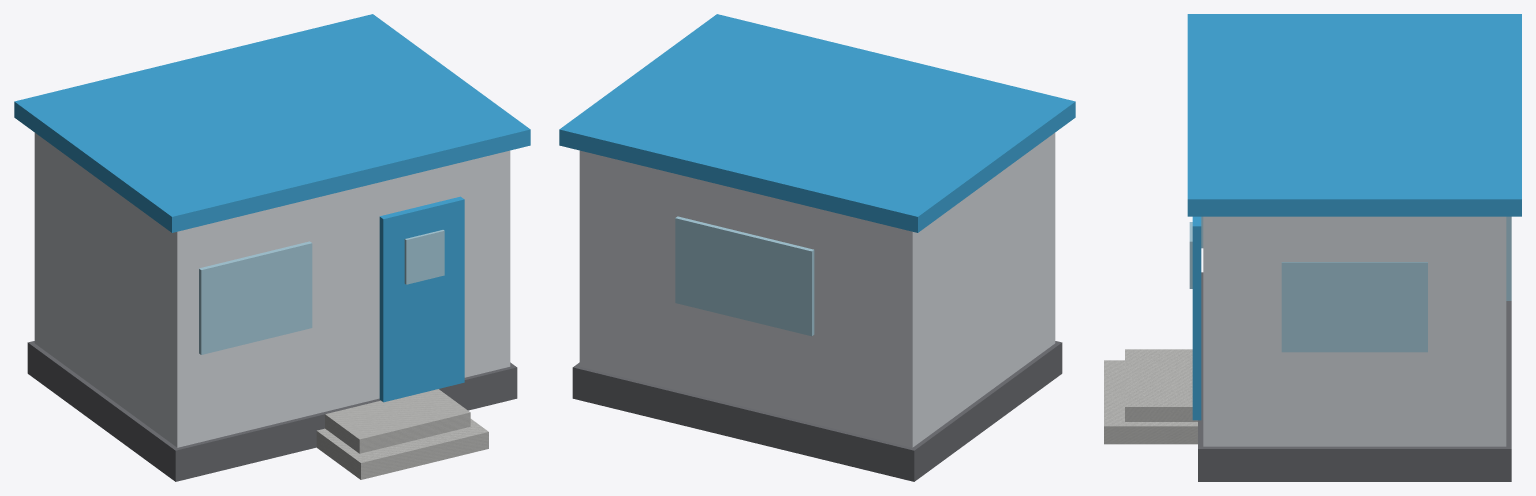
The model's file is bus-station-and-city-transit-driver-rest-cabin-a5e83f39__34212.glb.
3 renders of one model, left to right at view 1: azimuth 30°, elevation 25°; view 2: azimuth 150°, elevation 25°; view 3: azimuth 270°, elevation 25°, orthographic. The views are drawn at different scales.
Parts seen in each view (by area): view 1: driver-rest-cabin-steel, driver-rest-cabin-azure, door-cabin/azure, driver-rest-cabin-charcoal, driver-rest-cabin-concrete, driver-rest-cabin-glass, door-cabin/glass; view 2: driver-rest-cabin-steel, driver-rest-cabin-azure, driver-rest-cabin-charcoal, driver-rest-cabin-glass; view 3: driver-rest-cabin-azure, driver-rest-cabin-steel, driver-rest-cabin-glass, driver-rest-cabin-charcoal, driver-rest-cabin-concrete, door-cabin/azure.
Boxes of the visible parts, <box> form: driver-rest-cabin-steel: <box>34,133,510,447</box>; driver-rest-cabin-azure: <box>14,14,530,232</box>; door-cabin/azure: <box>379,196,464,402</box>; driver-rest-cabin-charcoal: <box>27,341,517,481</box>; driver-rest-cabin-concrete: <box>316,389,488,479</box>; driver-rest-cabin-glass: <box>199,241,312,354</box>; door-cabin/glass: <box>404,230,444,284</box>; driver-rest-cabin-steel: <box>579,133,1055,447</box>; driver-rest-cabin-azure: <box>559,14,1075,232</box>; driver-rest-cabin-charcoal: <box>572,341,1062,481</box>; driver-rest-cabin-glass: <box>675,216,814,336</box>; driver-rest-cabin-azure: <box>1187,14,1521,216</box>; driver-rest-cabin-steel: <box>1203,216,1506,446</box>; driver-rest-cabin-glass: <box>1201,216,1511,352</box>; driver-rest-cabin-charcoal: <box>1198,272,1511,481</box>; driver-rest-cabin-concrete: <box>1104,349,1197,444</box>; door-cabin/azure: <box>1192,216,1201,420</box>.
Size of the model in its own units: 4.2 by 3.03 by 4.
5 materials, 1 textured.
